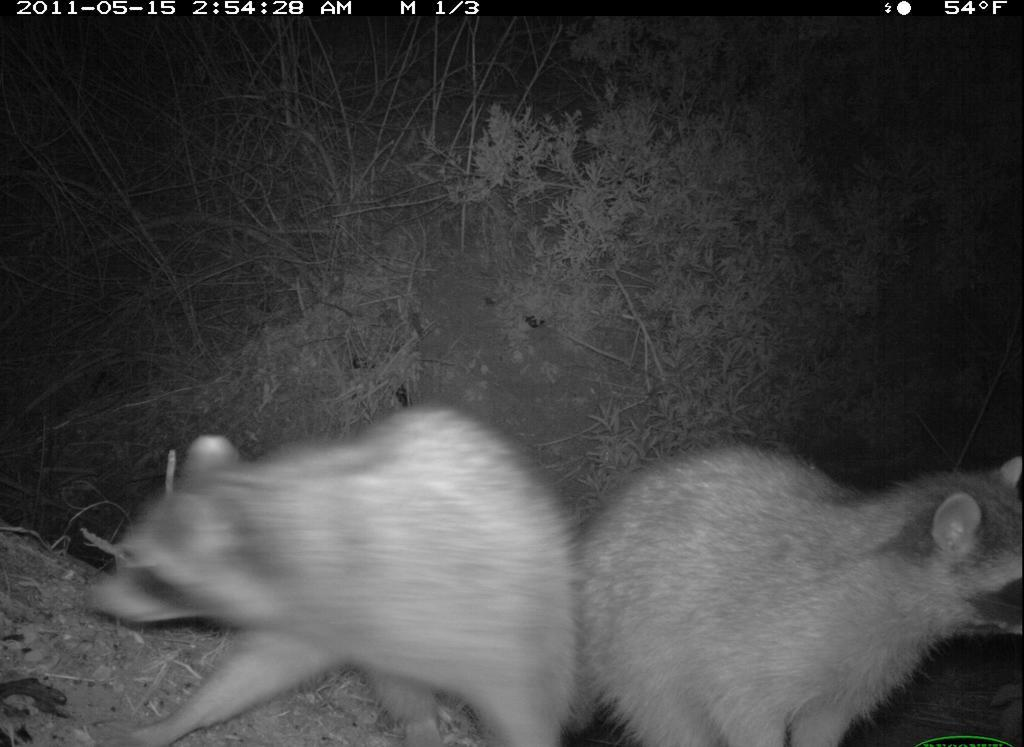raccoon: (73, 383, 568, 747), (579, 420, 1019, 747)
